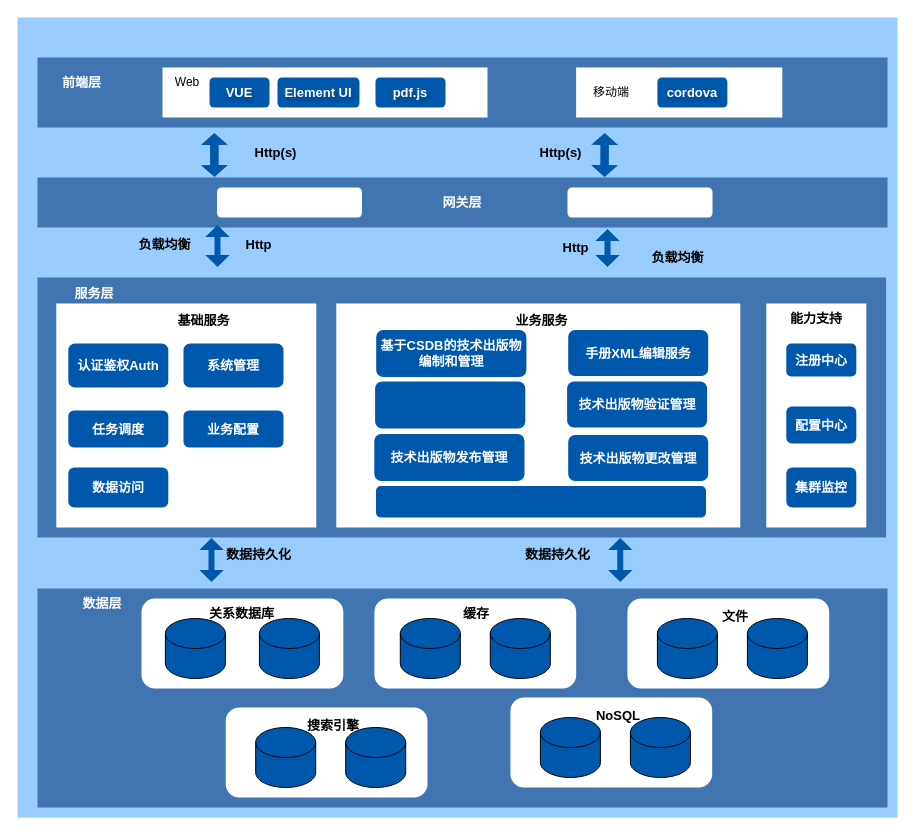
The diagram is 914 pixels wide and 834 high, and some of its shapes have lost their labels. Each missing label, with the centre of its shape:
Gateway: [639,202]
Nginx: [289,202]
交互式IETM浏览服务: [541,501]
计算机辅助翻译: [450,404]
